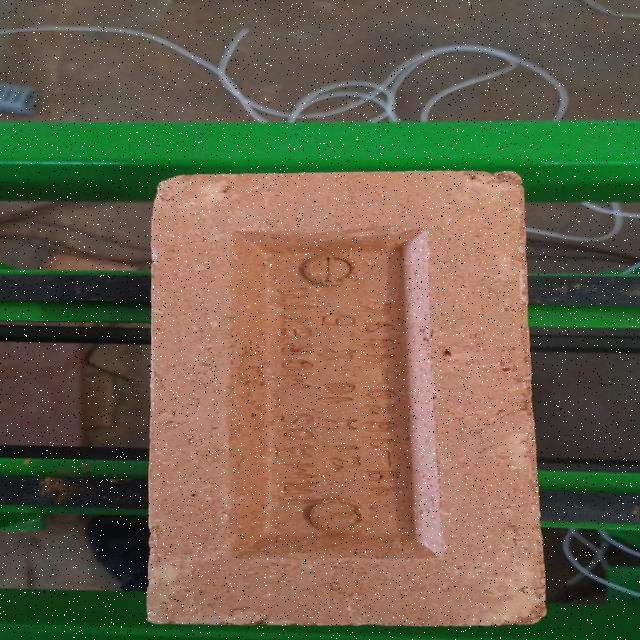bricks: (143, 168, 548, 624)
